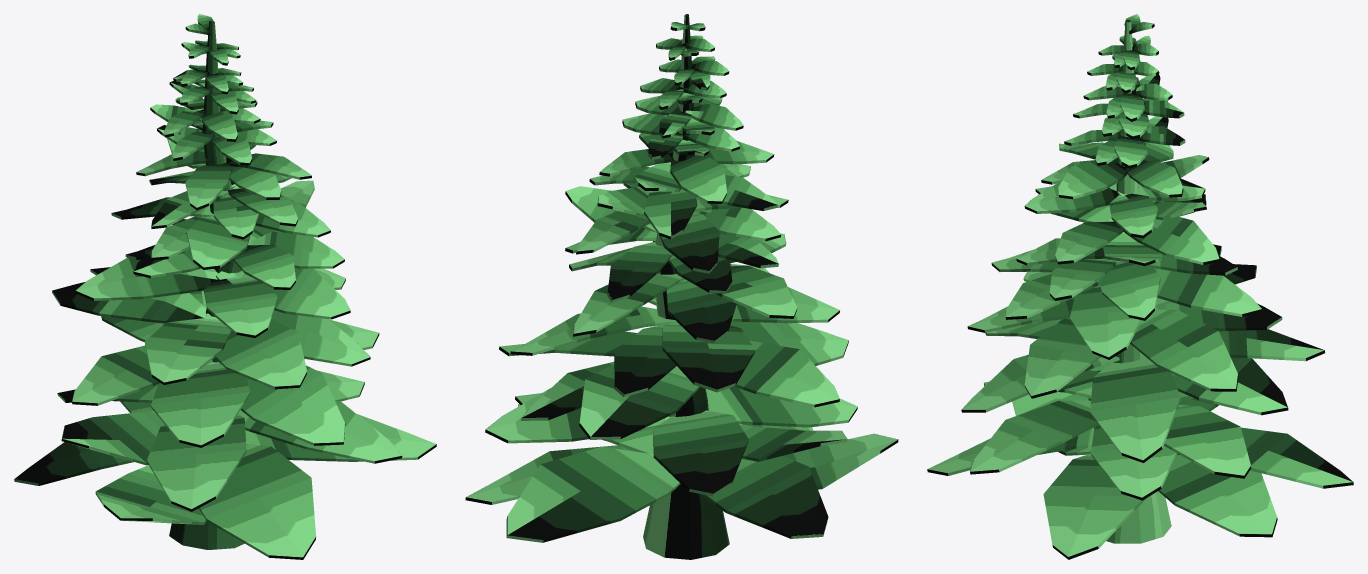
Rendered from arvore_verde.fbx.
The picture shows the model from 3 angles, left to right: view 1: azimuth 30°, elevation 25°; view 2: azimuth 150°, elevation 25°; view 3: azimuth 270°, elevation 25°; orthographic projection. The views are drawn at different scales.
Visible parts, largest first — view 1: folha com pontinha.373; view 2: folha com pontinha.373; view 3: folha com pontinha.373.
Part boxes in pixels (box(x1,y1,x2,y2)): folha com pontinha.373: box(14, 14, 436, 559); folha com pontinha.373: box(465, 14, 898, 559); folha com pontinha.373: box(927, 14, 1353, 559).
Bounding box in the file's own units: 696 × 945 × 723.
